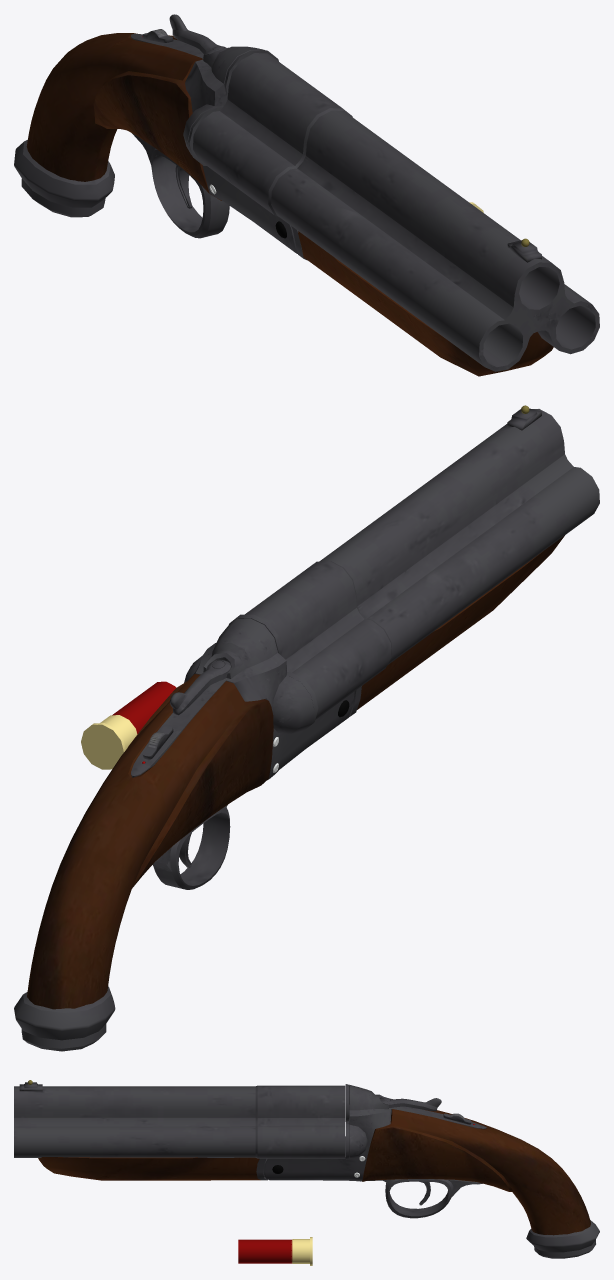
File: triple-barrel-shotgun.glb
3 views of the same model, one above another, from view 1: azimuth 30°, elevation 25°; view 2: azimuth 150°, elevation 25°; view 3: azimuth 270°, elevation 25° (orthographic). The views are drawn at different scales.
Visible parts, largest first — view 1: Bolts; view 2: Bolts, Shell; view 3: Bolts, Shell.
Part boxes in pixels (<box>): Bolts: <box>14,14,599,376</box>; Bolts: <box>14,405,599,1051</box>; Shell: <box>81,681,176,769</box>; Bolts: <box>14,1080,599,1258</box>; Shell: <box>238,1237,312,1265</box>.
Bounding box in the file's own units: 1.07 × 1.15 × 3.52.
2 materials, 2 textured.
